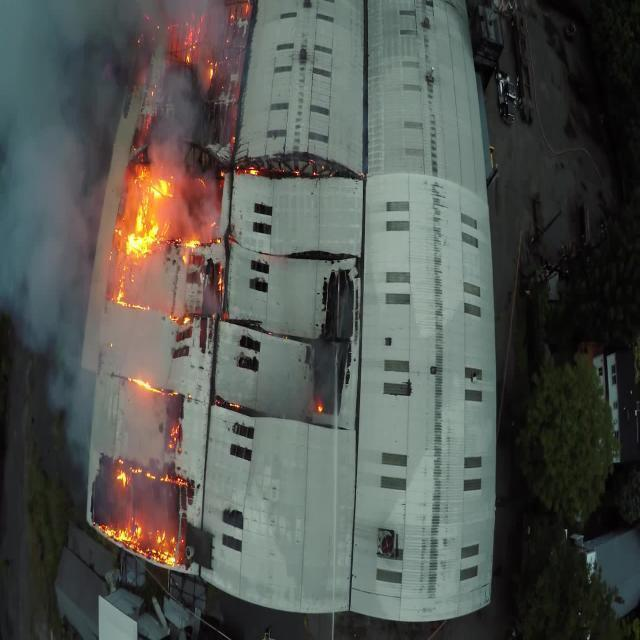Fire: (130, 170, 207, 286), (112, 448, 177, 561), (175, 23, 218, 84), (110, 281, 146, 323), (129, 376, 166, 404), (98, 523, 133, 546), (308, 396, 331, 425), (170, 425, 183, 454)
Smoke: (3, 11, 100, 352)
